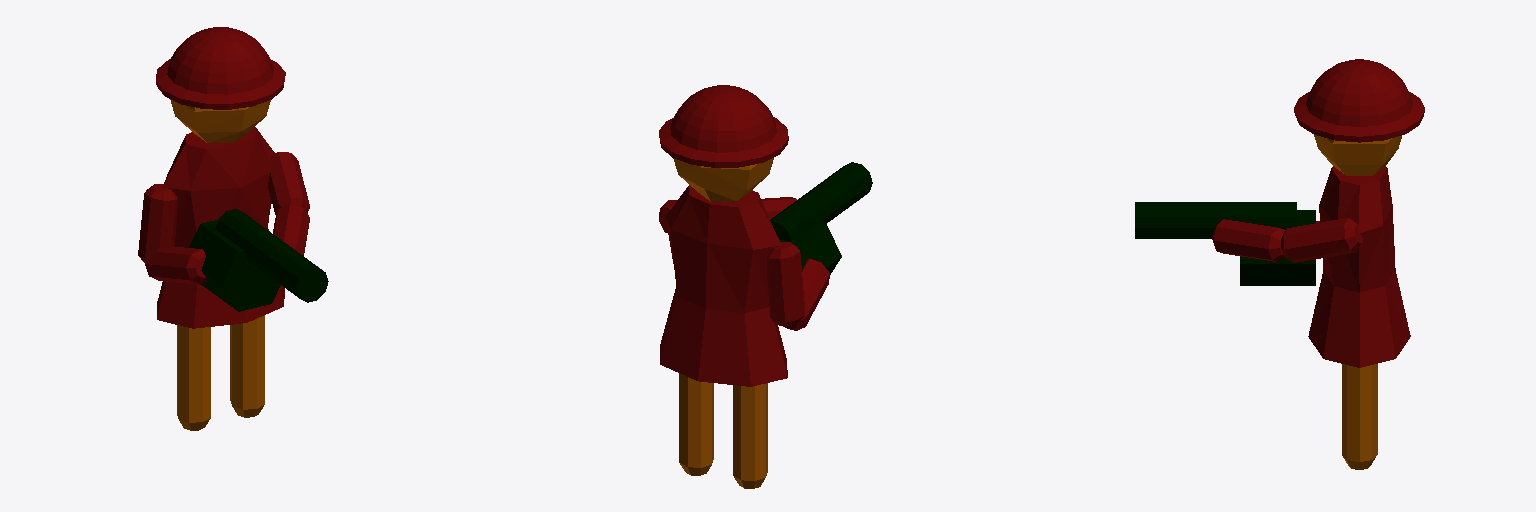
File: player2.obj
The picture shows the model from 3 angles: view 1: azimuth 30°, elevation 25°; view 2: azimuth 150°, elevation 25°; view 3: azimuth 270°, elevation 25°; orthographic projection.
Parts seen in each view (by area): view 1: pCylinder1, pSphere2, pCylinder8, pCylinder9, pCylinder2, pCylinder3, pSphere1, pCylinder4, pCylinder4 pCylinder6, pCylinder5, pCylinder5 pCylinder7; view 2: pCylinder1, pSphere2, pCylinder8, pCylinder2, pCylinder3, pCylinder4, pSphere1, pCylinder9, pCylinder4 pCylinder6; view 3: pCylinder1, pSphere2, pCylinder8, pCylinder3, pCylinder5, pCylinder5 pCylinder7, pSphere1, pCylinder9.
Part boxes in pixels (x1,y1,x2,y2): pCylinder1: (157,127,284,328); pSphere2: (156,27,285,109); pCylinder8: (215,209,328,302); pCylinder9: (189,220,280,311); pCylinder2: (177,325,210,430); pCylinder3: (230,315,264,417); pSphere1: (170,99,270,142); pCylinder4: (138,184,177,262); pCylinder4 pCylinder6: (145,246,206,284); pCylinder5: (268,152,309,214); pCylinder5 pCylinder7: (273,204,309,255); pCylinder1: (660,185,787,386); pSphere2: (659,85,788,167); pCylinder8: (770,162,872,241); pCylinder2: (733,383,767,488); pCylinder3: (679,373,713,475); pCylinder4: (767,242,804,326); pSphere1: (673,158,773,201); pCylinder9: (779,221,841,274); pCylinder4 pCylinder6: (783,259,829,330); pCylinder1: (1308,166,1410,367); pSphere2: (1294,59,1424,142); pCylinder8: (1135,202,1296,238); pCylinder3: (1342,364,1377,469); pCylinder5: (1281,218,1363,262); pCylinder5 pCylinder7: (1212,219,1285,261); pSphere1: (1314,135,1401,175); pCylinder9: (1240,210,1315,285).
Size of the model in its own units: 2.07 by 5.13 by 3.48.